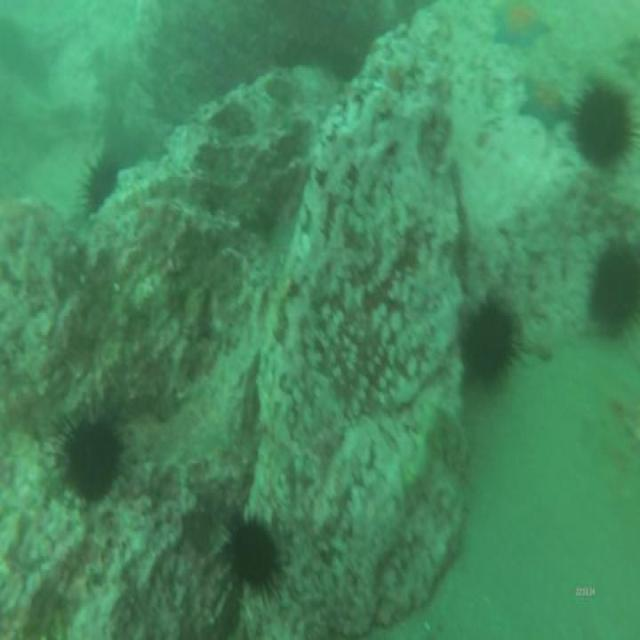echinus: (50, 400, 132, 512), (219, 510, 288, 610), (570, 80, 640, 177), (459, 289, 521, 397), (585, 230, 640, 348), (73, 147, 119, 224)
holothurian: (400, 403, 440, 493)
starfish: (516, 70, 575, 138), (489, 0, 551, 55)
